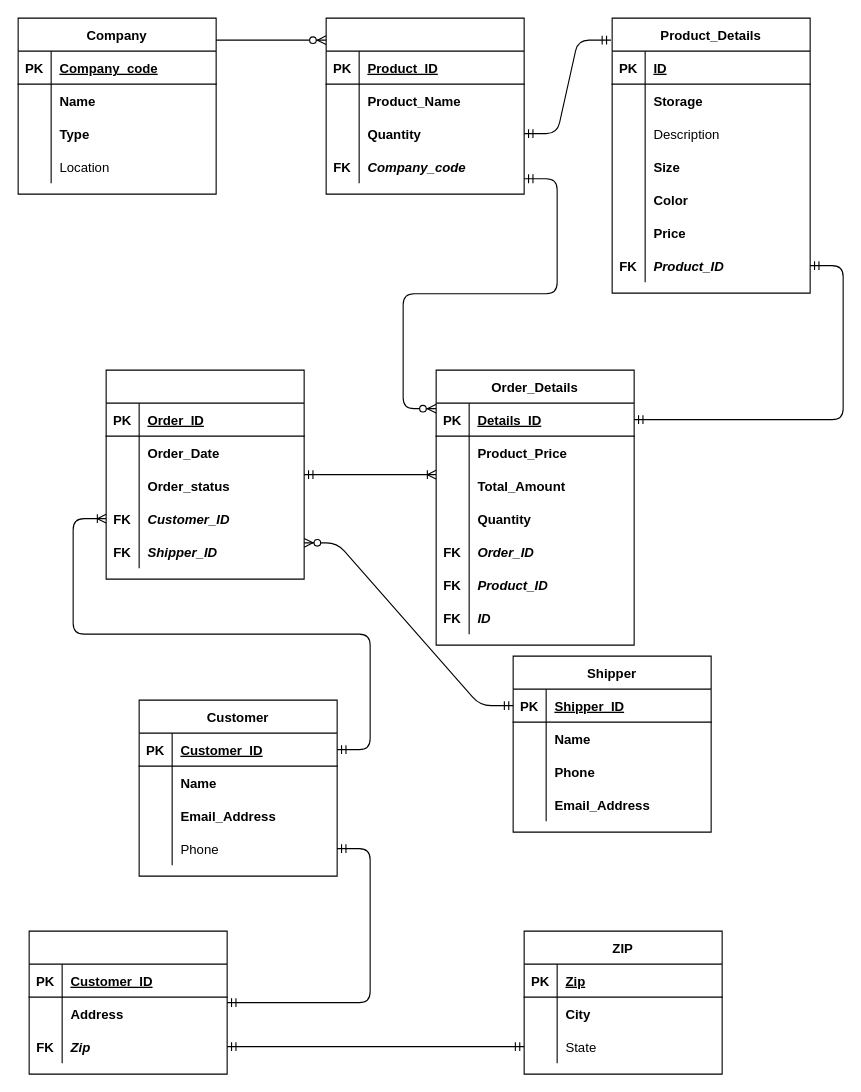
Image size: 861x1092. Some labels were removed from this diagram. Here are the shapes that lost their labels. From the top down, the box of each, then its label:
(325, 17, 524, 194): Products
(105, 369, 304, 579): Customer_Order
(28, 930, 227, 1074): Customer_Address
